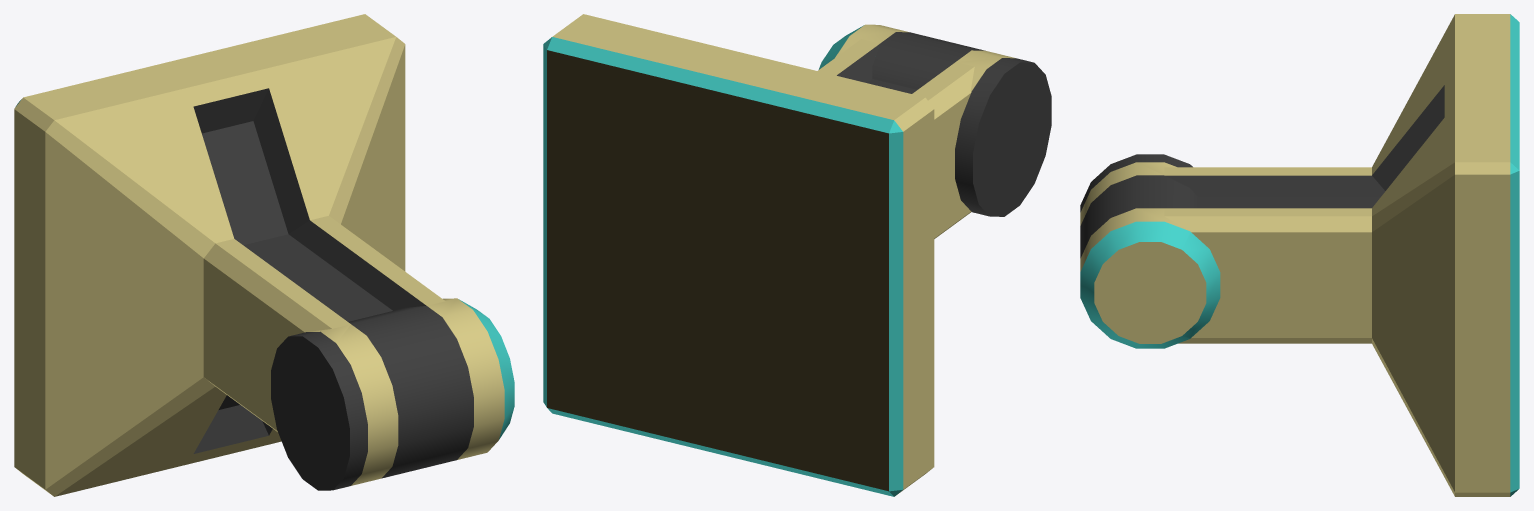
Rendered from Wheel1.fbx.
3 renders of one model, left to right at view 1: azimuth 30°, elevation 25°; view 2: azimuth 150°, elevation 25°; view 3: azimuth 270°, elevation 25°, orthographic. The views are drawn at different scales.
Parts seen in each view (by area): view 1: Cube.005; view 2: Cube.005; view 3: Cube.005.
Boxes of the visible parts, x1,y1,x2,y2 form: Cube.005: (14, 14, 514, 496); Cube.005: (543, 14, 1051, 496); Cube.005: (1080, 14, 1519, 496).
Size of the model in its own units: 2 by 2 by 2.38.
